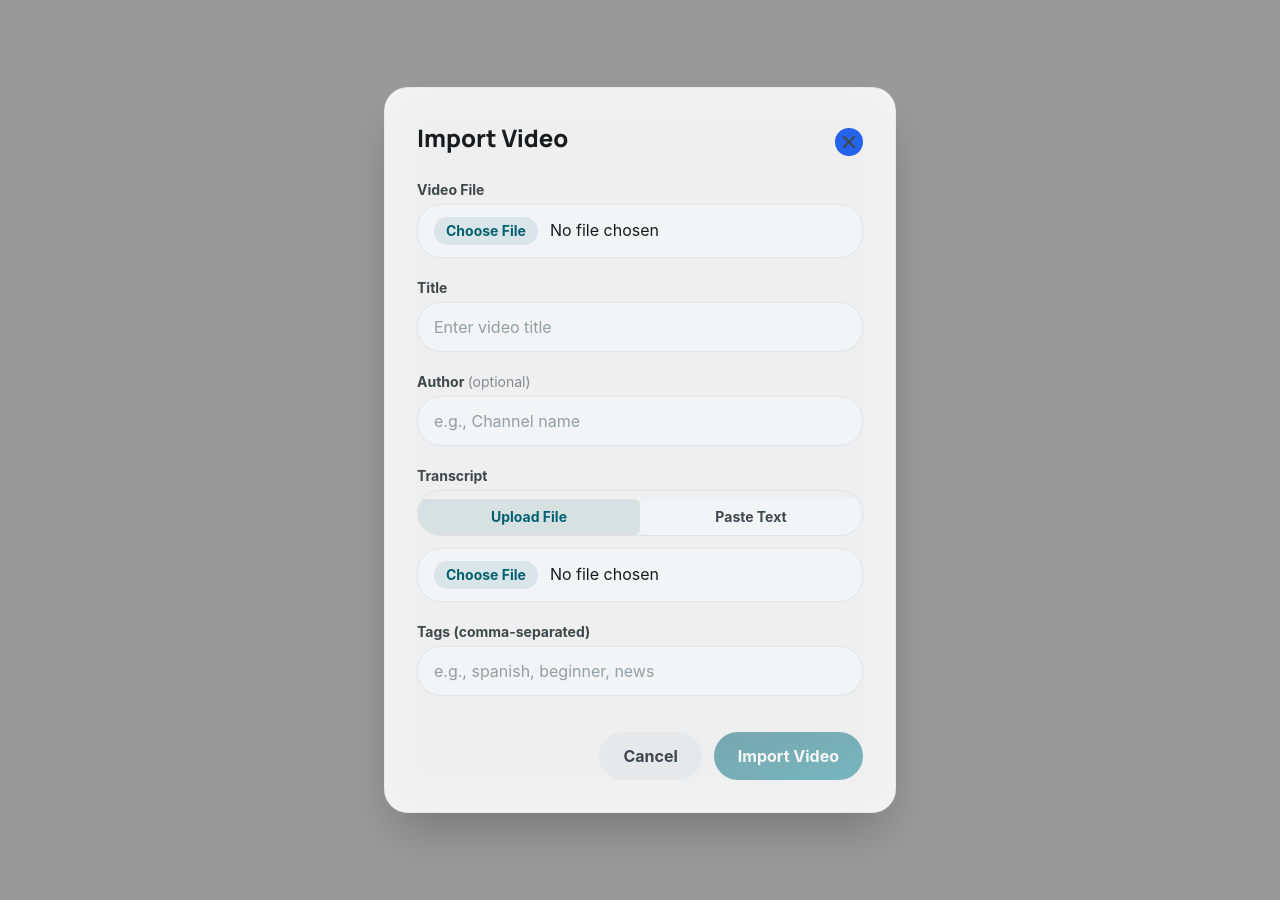
it: ImportVideoModal › switches back to upload mode showing file input and hiding textarea
The width and height of the screenshot is (1280, 900).
Click the button with test id "transcript-mode-paste": (751, 517) 640,499 -> 862,535
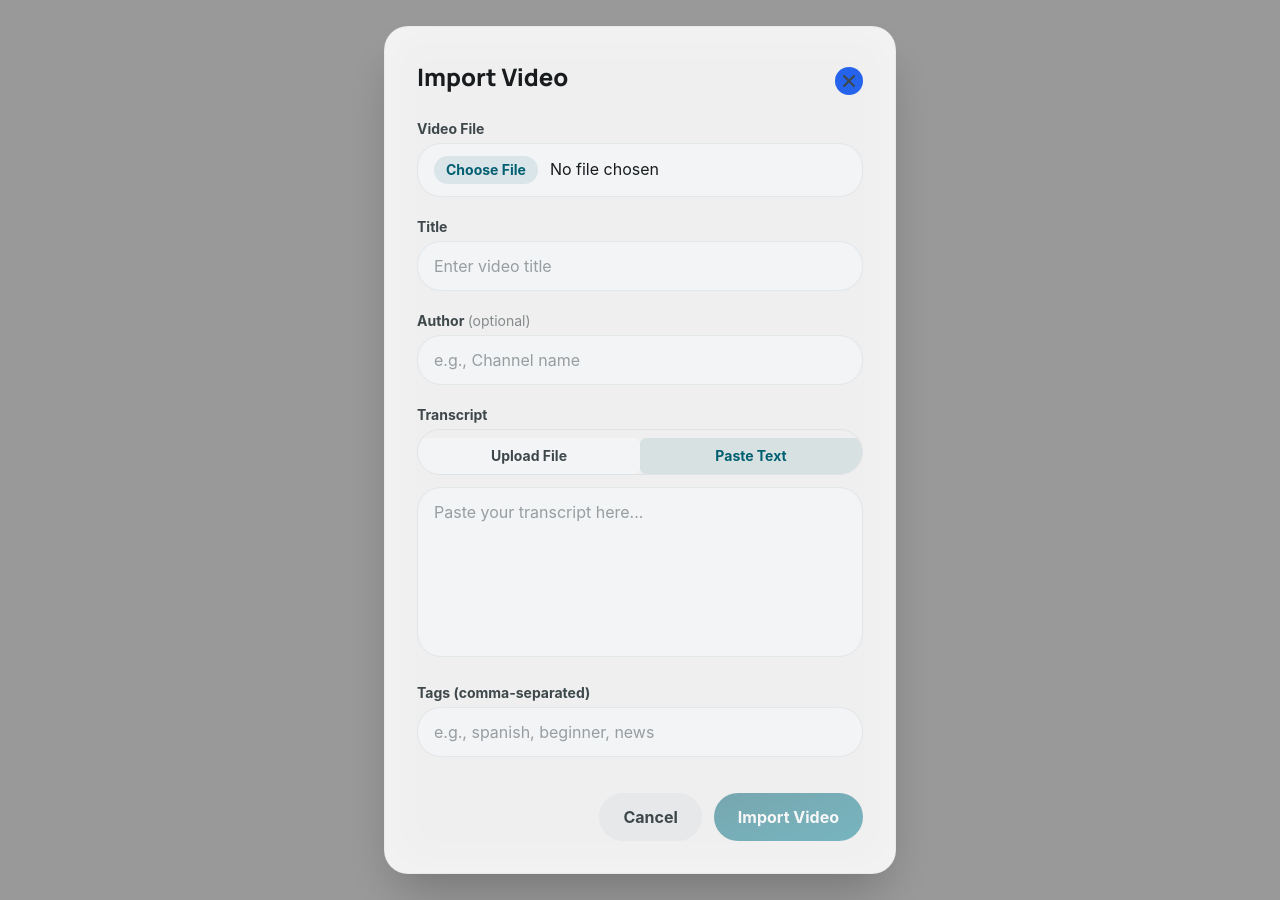
Click the button with test id "transcript-mode-upload": (529, 456) 418,438 -> 640,474
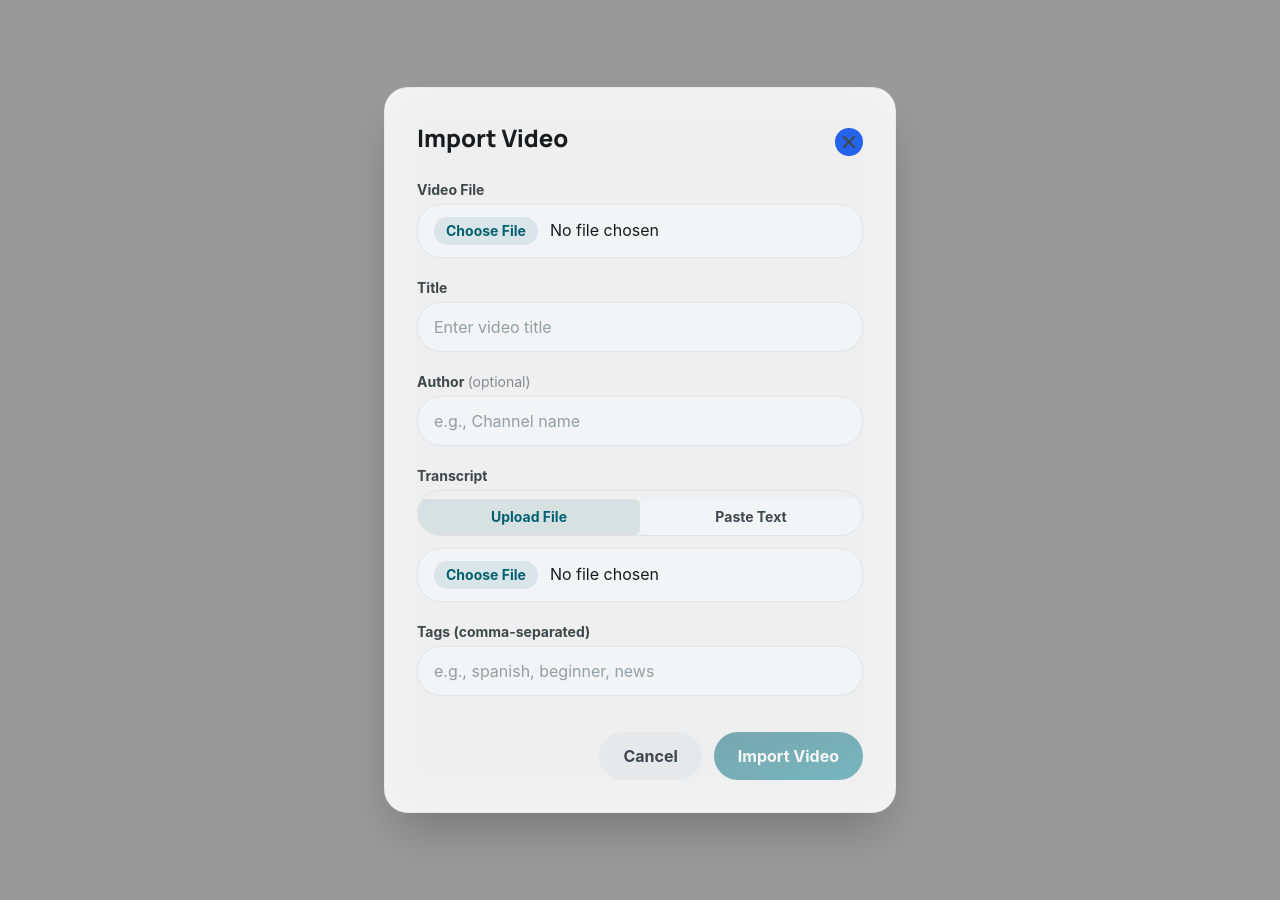
Now the file field with test id "transcript-input" is shown, box 417,548 -> 863,602
Now the text box with test id "transcript-paste-input" is gone
